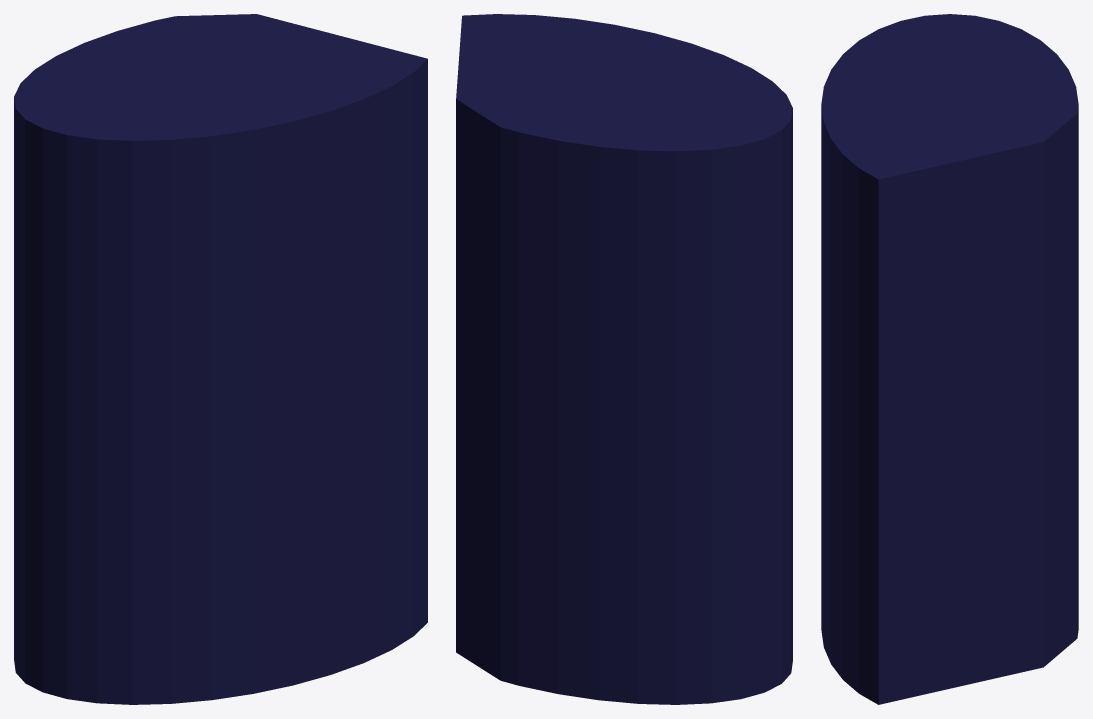
The model's file is cockpit-9.glb.
3 views of the same model, side by side, from view 1: azimuth 30°, elevation 25°; view 2: azimuth 150°, elevation 25°; view 3: azimuth 270°, elevation 25° (orthographic). The views are drawn at different scales.
Visible parts, largest first — view 1: Cylinder; view 2: Cylinder; view 3: Cylinder.
Part boxes in pixels (x1,y1,x2,y2): Cylinder: (14, 14, 427, 704); Cylinder: (456, 14, 792, 704); Cylinder: (821, 14, 1078, 704).
Size of the model in its own units: 1.83 by 2.71 by 1.2.
